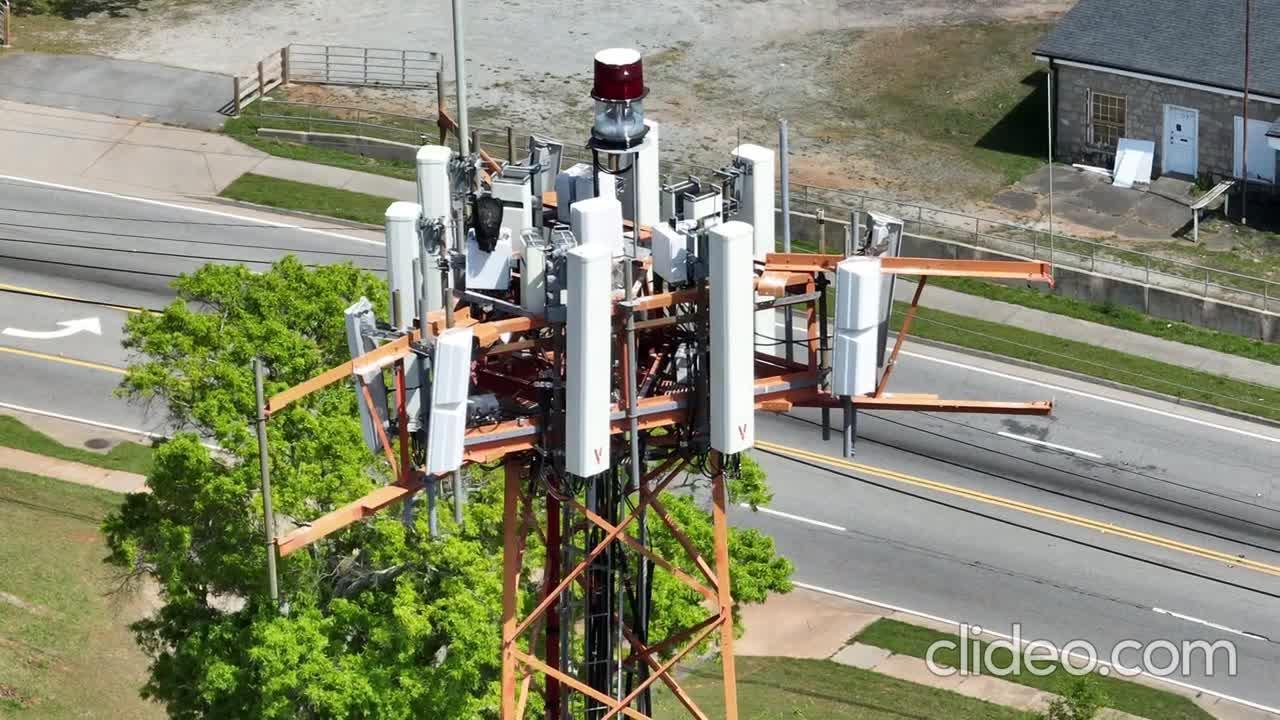antenna: (706, 219, 768, 460), (563, 230, 620, 486), (830, 247, 885, 411), (334, 289, 387, 452), (418, 327, 474, 481), (732, 130, 785, 277), (385, 197, 429, 322), (412, 132, 451, 243)
